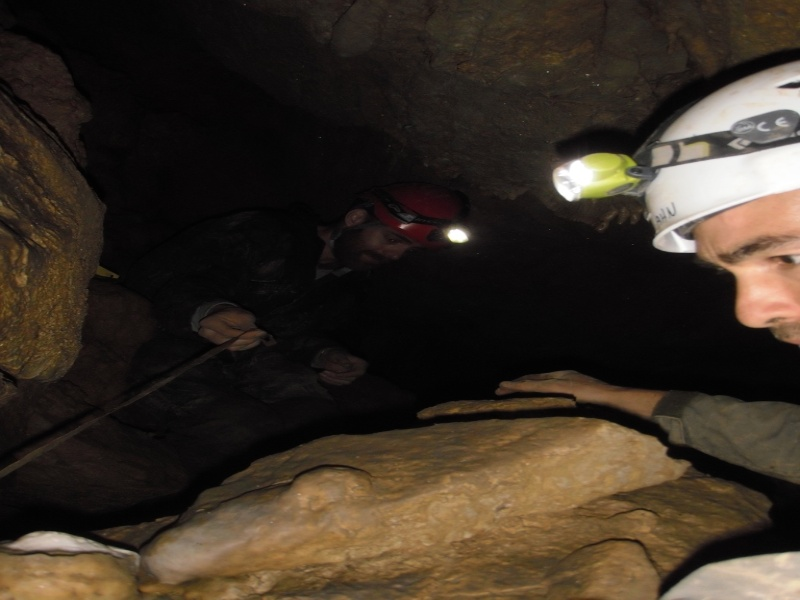helmet: (645, 59, 800, 254)
